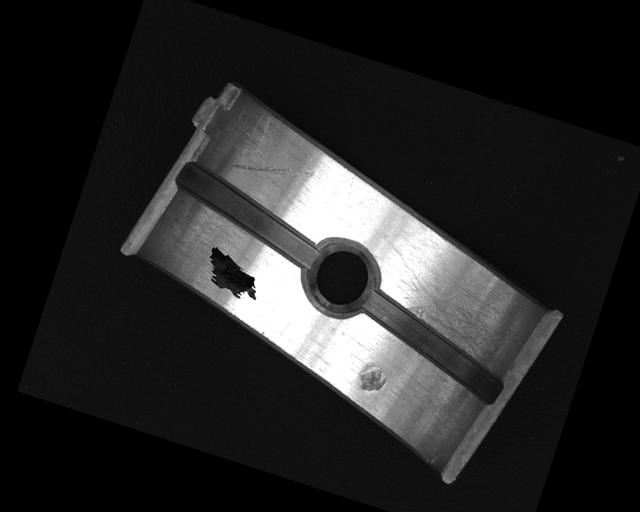blot: (199, 243, 269, 305)
bruise: (353, 357, 391, 396)
gap: (346, 286, 519, 405), (164, 159, 335, 272)
hole: (296, 233, 386, 321)
nick: (227, 144, 316, 194)
scratch: (369, 246, 538, 371)
